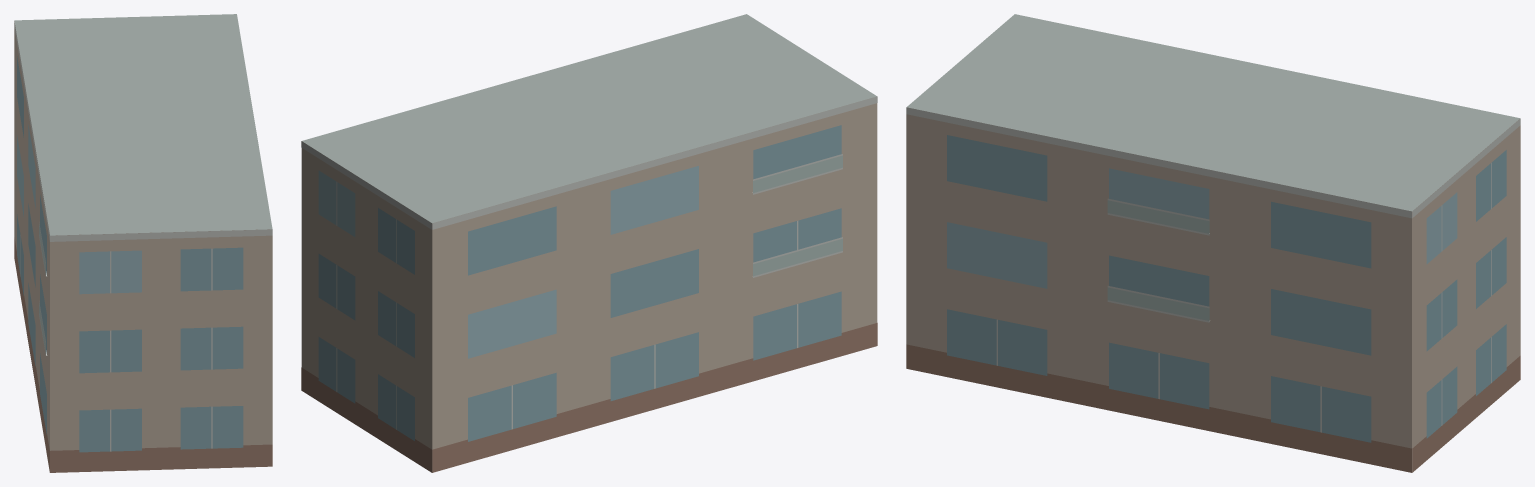
The model's file is survey-upis-32705016.glb.
3 views of the same model, side by side, from view 1: azimuth 30°, elevation 25°; view 2: azimuth 150°, elevation 25°; view 3: azimuth 270°, elevation 25° (orthographic). The views are drawn at different scales.
Parts seen in each view (by area): view 1: survey-upis-32705016.tmp; view 2: survey-upis-32705016.tmp; view 3: survey-upis-32705016.tmp.
Boxes of the visible parts, left/top/right/bottom form: survey-upis-32705016.tmp: left=14, top=14, right=272, bottom=472; survey-upis-32705016.tmp: left=301, top=14, right=877, bottom=472; survey-upis-32705016.tmp: left=906, top=14, right=1520, bottom=472.
Size of the model in its own units: 14.83 by 9.15 by 19.49.
